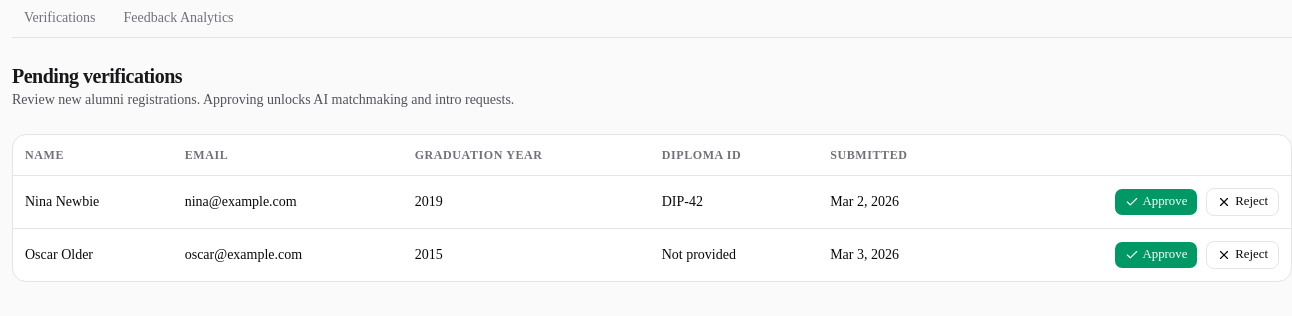
Test: Verifications › Approve sends the APPROVE decision and removes the row before the API answers
The width and height of the screenshot is (1292, 316).
Click the button with aria-label "Approve Nina Newbie": (1156, 202) top-left (1114, 188), bottom-right (1198, 216)
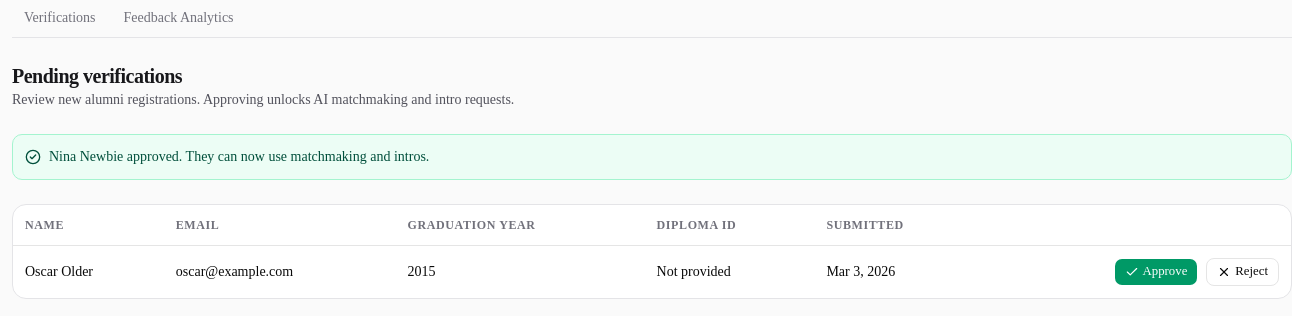
Expected: the text "Oscar Older" is shown, top-left (13, 245), bottom-right (164, 298)
Expected: the message shows "Nina Newbie approved", top-left (49, 149), bottom-right (429, 164)
